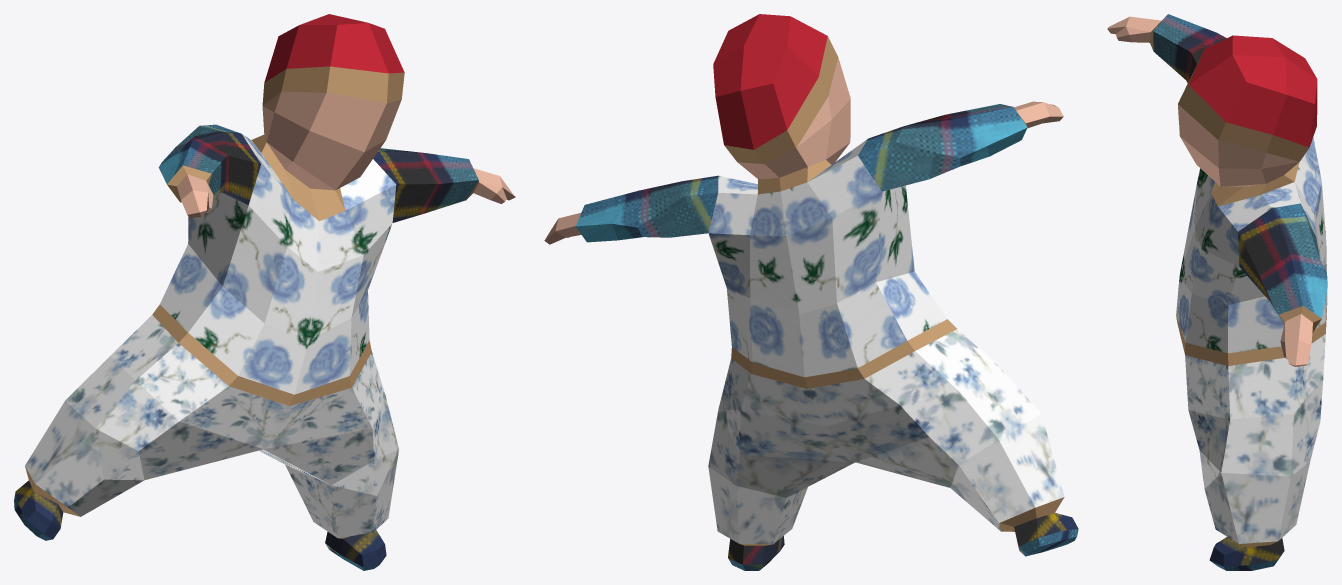
File: SpringBaby.005.glb
3 renders of one model, left to right at view 1: azimuth 30°, elevation 25°; view 2: azimuth 150°, elevation 25°; view 3: azimuth 270°, elevation 25°, orthographic. The views are drawn at different scales.
Parts seen in each view (by area): view 1: SpringBaby.005; view 2: SpringBaby.005; view 3: SpringBaby.005.
Part boxes in pixels (bbox=[...]): SpringBaby.005: bbox=[14, 14, 515, 570]; SpringBaby.005: bbox=[544, 14, 1078, 570]; SpringBaby.005: bbox=[1107, 14, 1327, 570].
Size of the model in its own units: 0.5634 by 0.5767 by 0.2229.
Materials: 1 (1 with a texture image).
